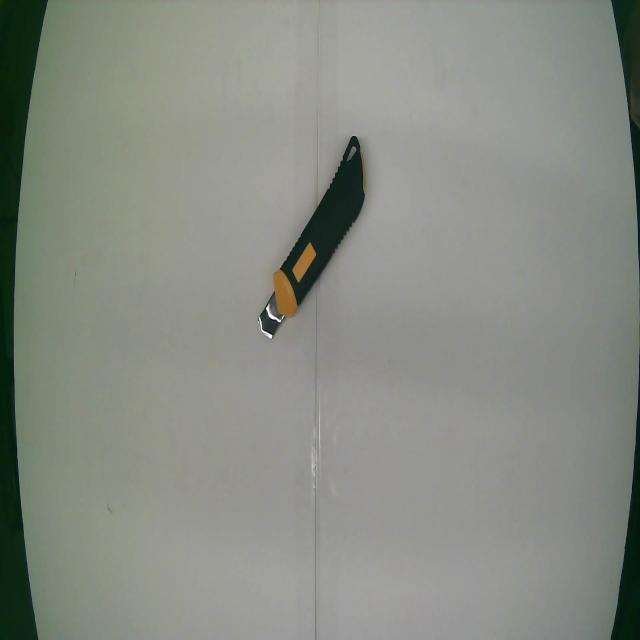estilete: (259, 137, 364, 337)
